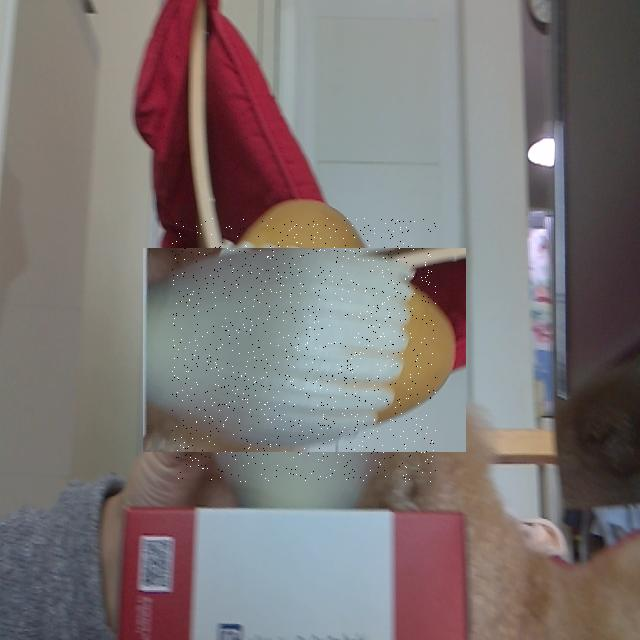pear: (172, 218, 436, 482)
